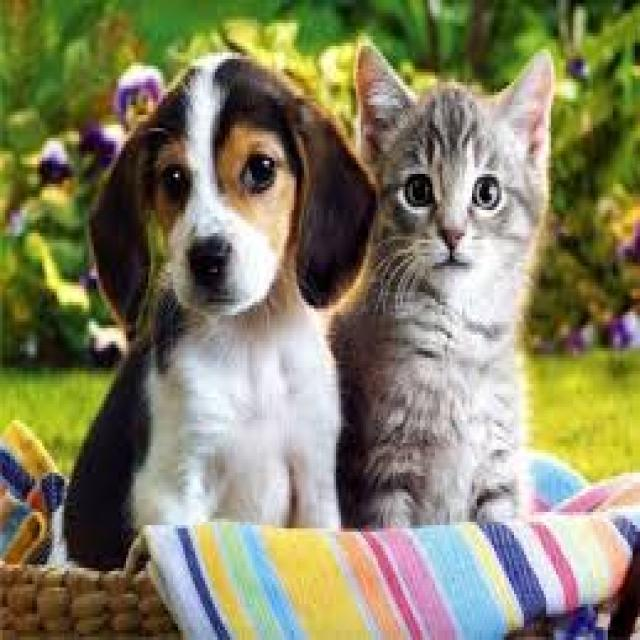cat: (346, 29, 563, 534)
dog: (66, 48, 382, 562)
